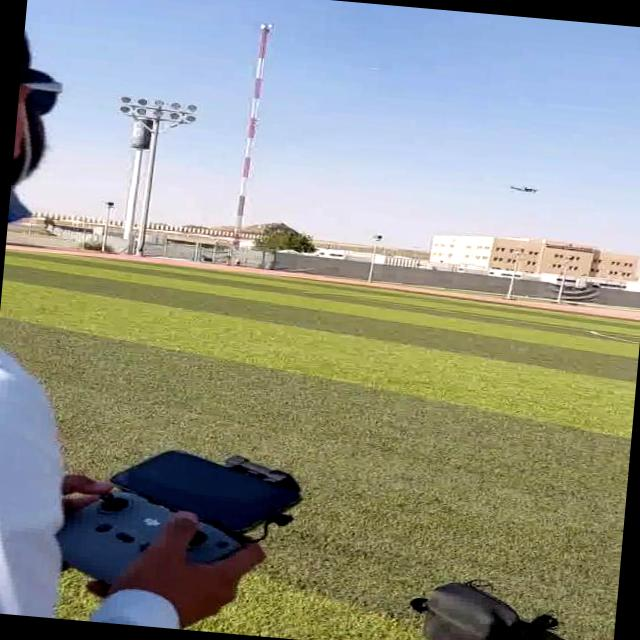drone: (501, 176, 552, 198)
